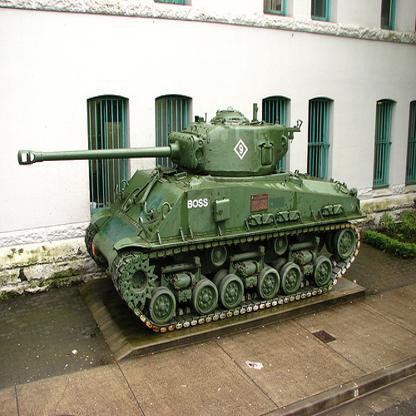Tank: (6, 103, 380, 329)
